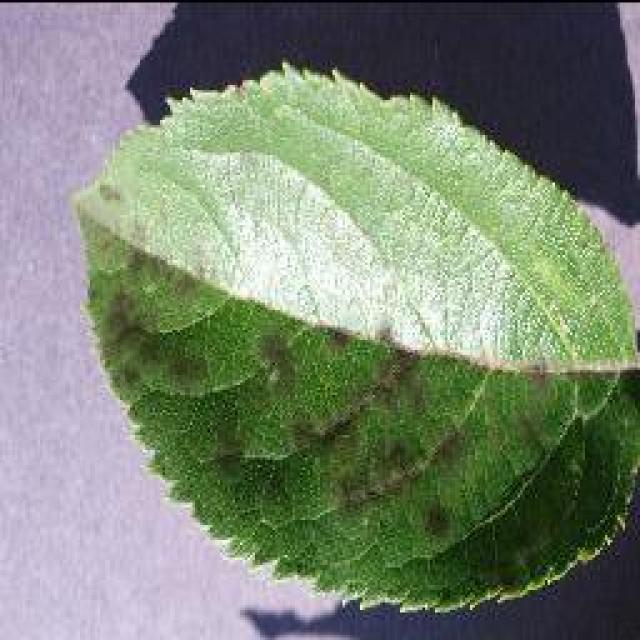apple scab disease: (70, 57, 638, 615)
